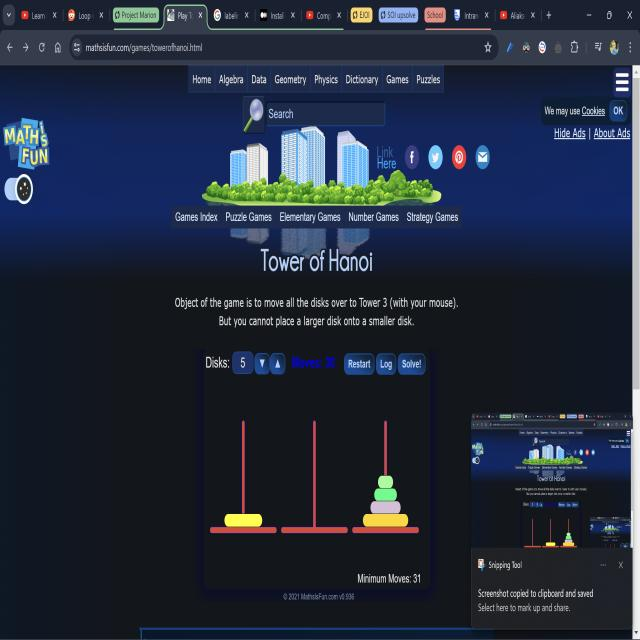disk1: (378, 476, 393, 488)
disk2: (374, 488, 397, 500)
disk3: (370, 502, 401, 514)
disk4: (225, 514, 262, 526)
disk5: (363, 514, 408, 527)
